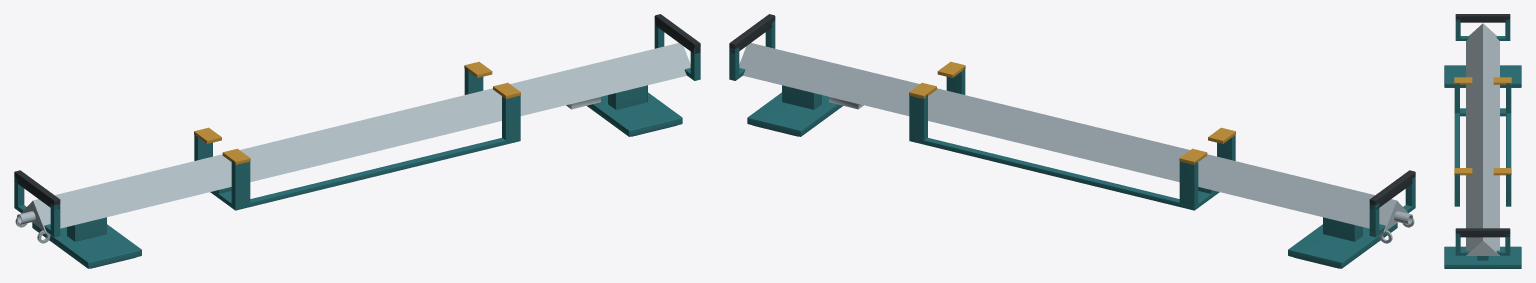
Rendered from VLAB_track.fbx.
The picture shows the model from 3 angles, left to right: view 1: azimuth 30°, elevation 25°; view 2: azimuth 150°, elevation 25°; view 3: azimuth 270°, elevation 25°; orthographic projection. The views are drawn at different scales.
Parts seen in each view (by area): view 1: VLAB_track_Rail_VIS, VLAB_track_GateSockets_VIS, VLAB_track_Feet_VIS, VLAB_track_EndStops_VIS; view 2: VLAB_track_Rail_VIS, VLAB_track_GateSockets_VIS, VLAB_track_Feet_VIS, VLAB_track_EndStops_VIS; view 3: VLAB_track_Rail_VIS, VLAB_track_Feet_VIS, VLAB_track_GateSockets_VIS, VLAB_track_EndStops_VIS.
Part boxes in pixels (x1=…): VLAB_track_Rail_VIS: x1=15, y1=43, x2=690, y2=243; VLAB_track_GateSockets_VIS: x1=194, y1=61, x2=520, y2=210; VLAB_track_Feet_VIS: x1=32, y1=85, x2=682, y2=268; VLAB_track_EndStops_VIS: x1=14, y1=14, x2=700, y2=237; VLAB_track_Rail_VIS: x1=739, y1=43, x2=1414, y2=243; VLAB_track_GateSockets_VIS: x1=909, y1=61, x2=1235, y2=210; VLAB_track_Feet_VIS: x1=747, y1=85, x2=1397, y2=268; VLAB_track_EndStops_VIS: x1=729, y1=14, x2=1415, y2=237; VLAB_track_Rail_VIS: x1=1466, y1=23, x2=1499, y2=255; VLAB_track_Feet_VIS: x1=1444, y1=65, x2=1521, y2=268; VLAB_track_GateSockets_VIS: x1=1454, y1=77, x2=1511, y2=206; VLAB_track_EndStops_VIS: x1=1455, y1=14, x2=1510, y2=255.
Size of the model in its own units: 1.23 by 0.125 by 0.18.
